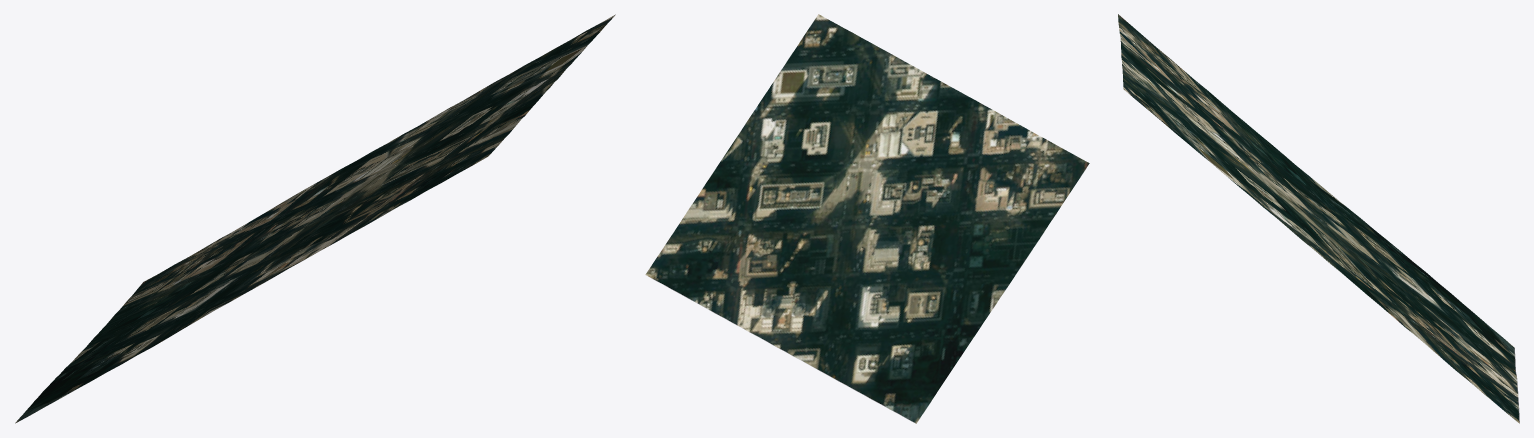
3 views of the same model, side by side, from view 1: azimuth 30°, elevation 25°; view 2: azimuth 150°, elevation 25°; view 3: azimuth 270°, elevation 25° (orthographic). The views are drawn at different scales.
Size of the model in its own units: 527 by 422 by 356.
1 material, 1 textured.
